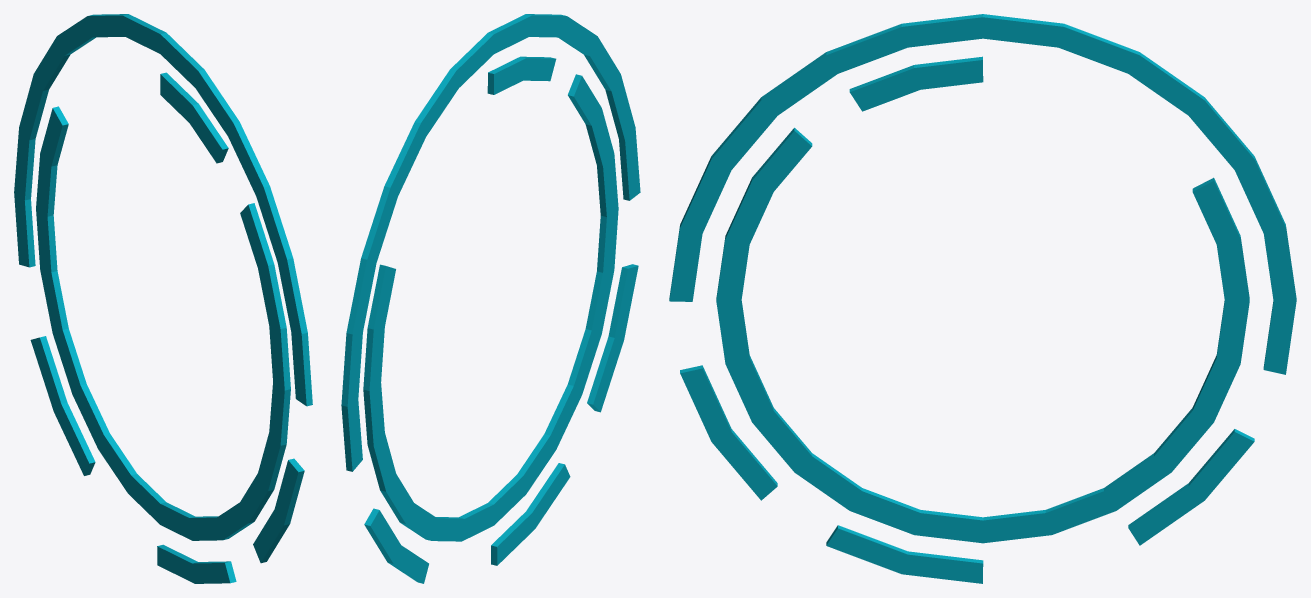
Rendered from Artifact_orbit_01.fbx.
3 renders of one model, left to right at view 1: azimuth 30°, elevation 25°; view 2: azimuth 150°, elevation 25°; view 3: azimuth 270°, elevation 25°, orthographic. The views are drawn at different scales.
Visible parts, largest first — view 1: Artifact_orbit_01; view 2: Artifact_orbit_01; view 3: Artifact_orbit_01.
Part boxes in pixels (<box>): Artifact_orbit_01: <box>14,14,312,583</box>; Artifact_orbit_01: <box>341,14,640,583</box>; Artifact_orbit_01: <box>669,14,1296,583</box>.
Size of the model in its own units: 4.16 by 226 by 226.
